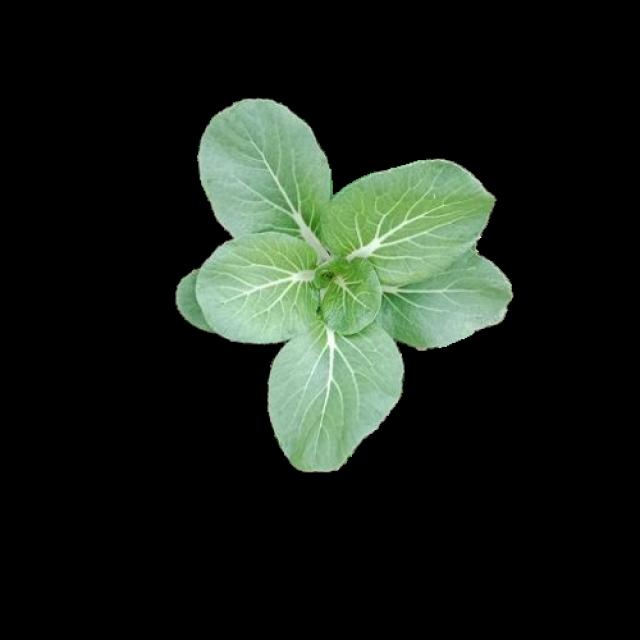healthy: (173, 94, 512, 468)
not-mature: (176, 97, 514, 471)
